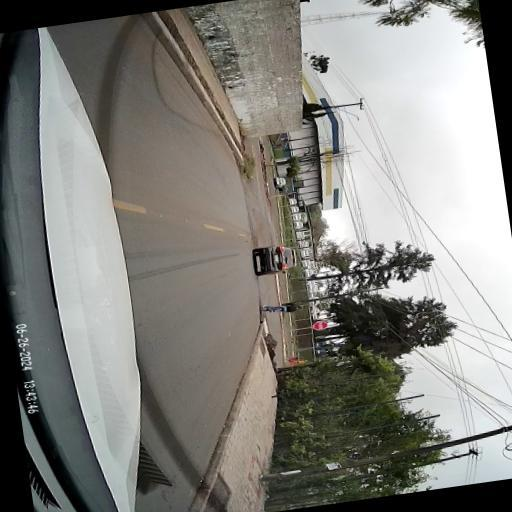R-1: (311, 320, 328, 332)
